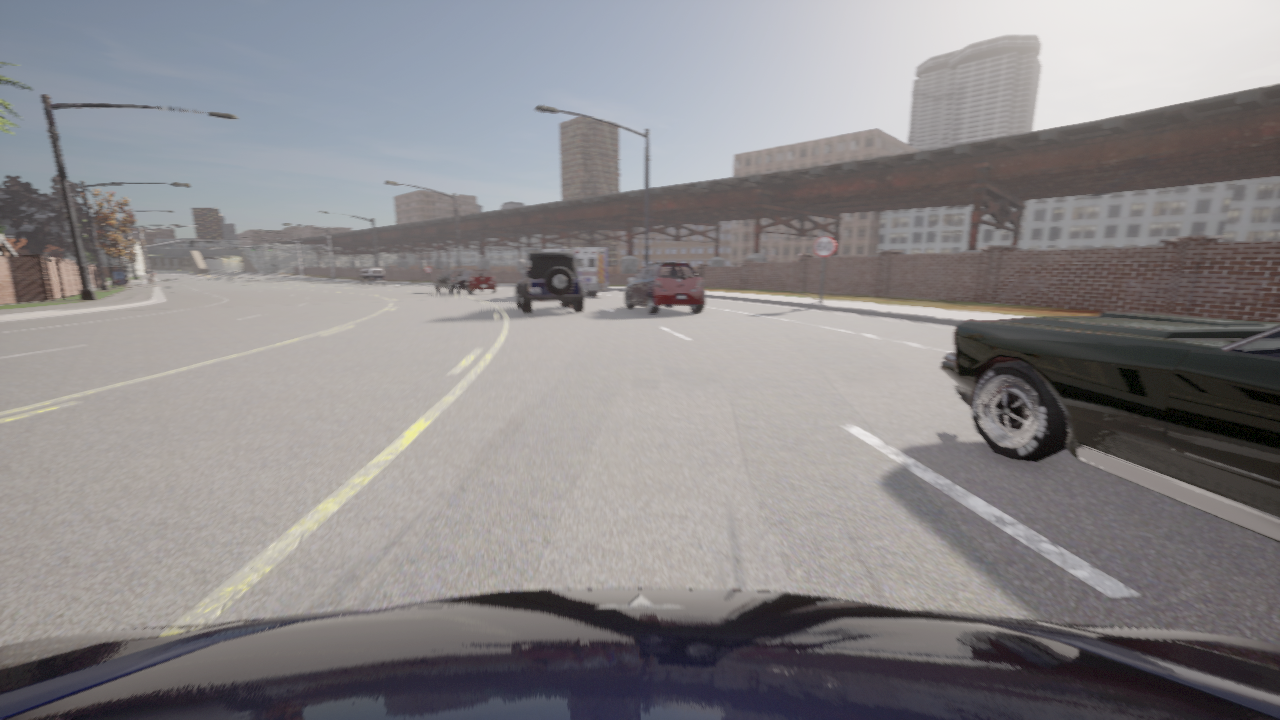cyclist: (0, 588, 1279, 719), (941, 312, 1279, 542), (515, 251, 584, 313), (625, 263, 704, 313), (540, 247, 608, 296), (455, 269, 496, 294), (434, 268, 475, 292), (359, 268, 385, 285)
